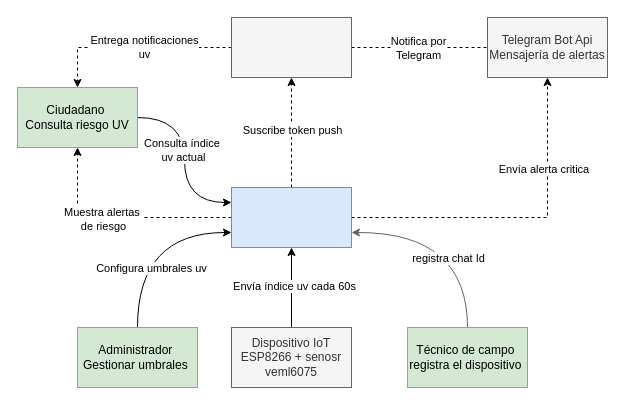
This 625x405 diagram has some shape labels left out. The shapes that lost their labels are listed below. From the top down, each one's centre as x and y in pixels, then its label:
At pixel 291 47: "Web Push Api Notificaciones al navegador".
At pixel 291 217: "UV Shield Monitoreo de índice UV en tiempo real con alertas".
